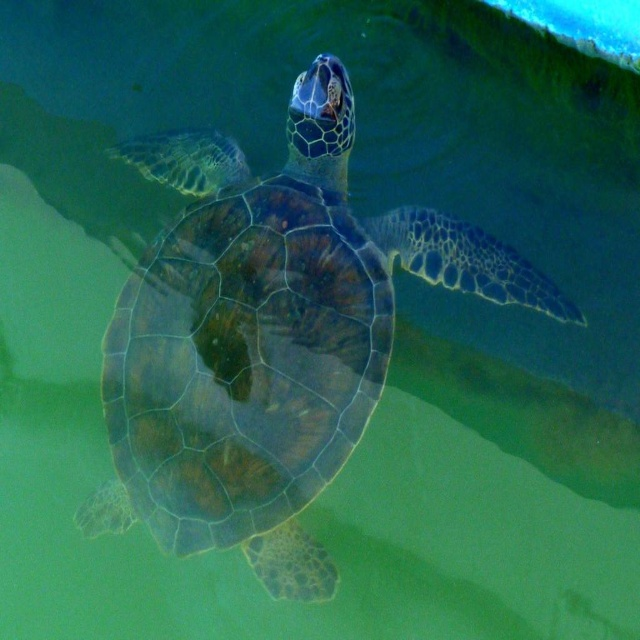Sea turtle: (70, 54, 589, 603)
